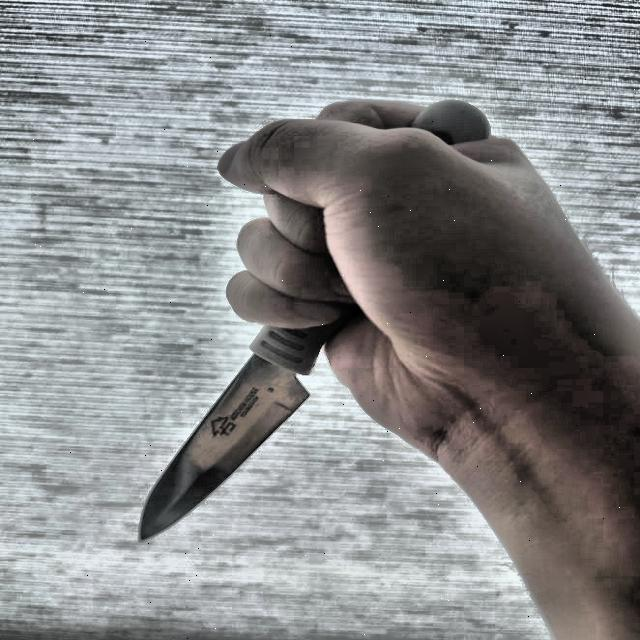knife: (140, 102, 492, 540)
